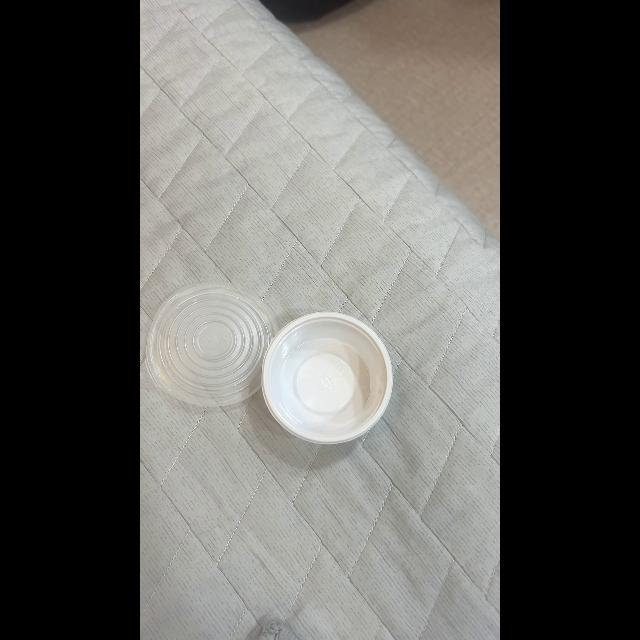clean: (264, 312, 392, 444), (146, 284, 278, 406)
